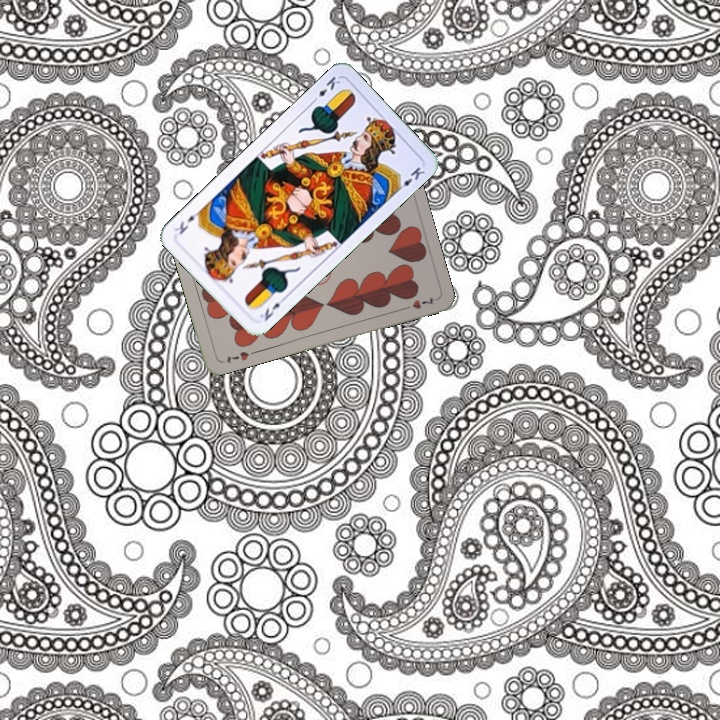EK: (308, 72, 343, 106), (256, 293, 289, 324)
H7: (222, 347, 251, 366)
